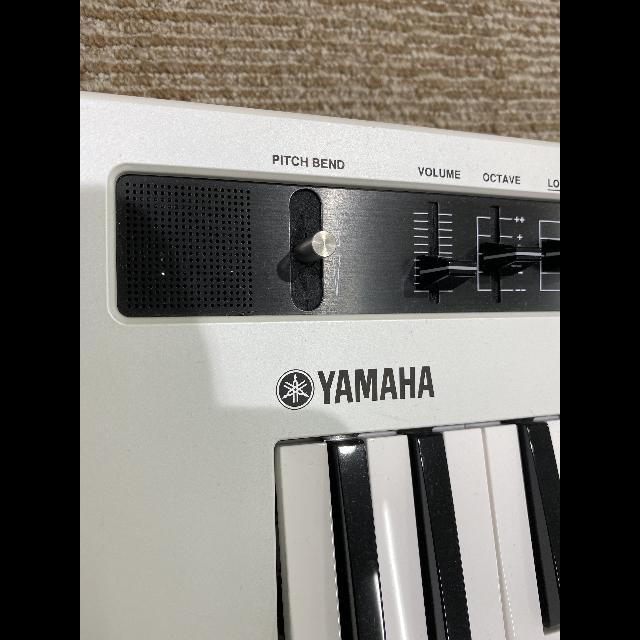Electronic-Keyboard: (80, 89, 560, 640)
